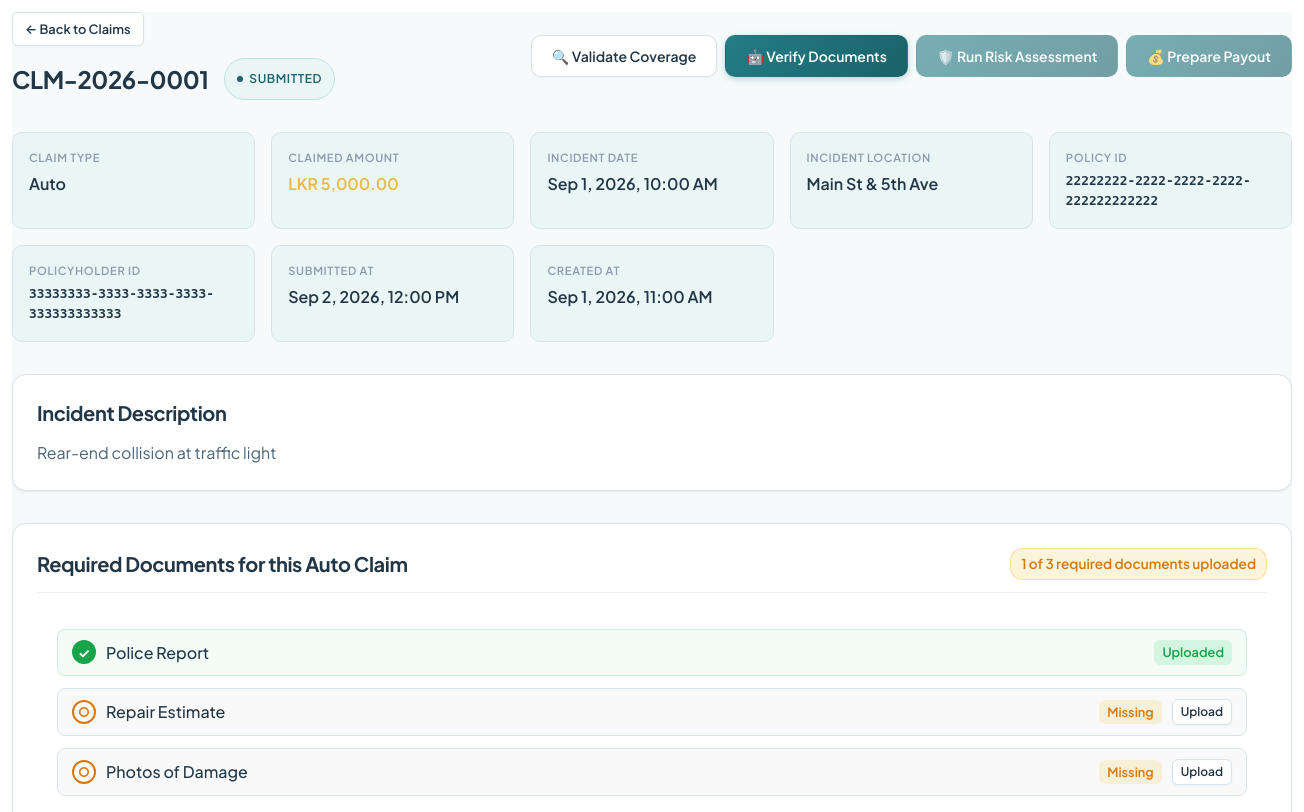
it: ClaimDetails Component Tests › 4. displays warnings section when warnings are returned
Check: the heading "CLM-2026-0001 Submitted" is shown, box 12,58 -> 335,100
Click the button "🤖 Verify Documents".
click(817, 56)  # box 725,35 -> 908,77
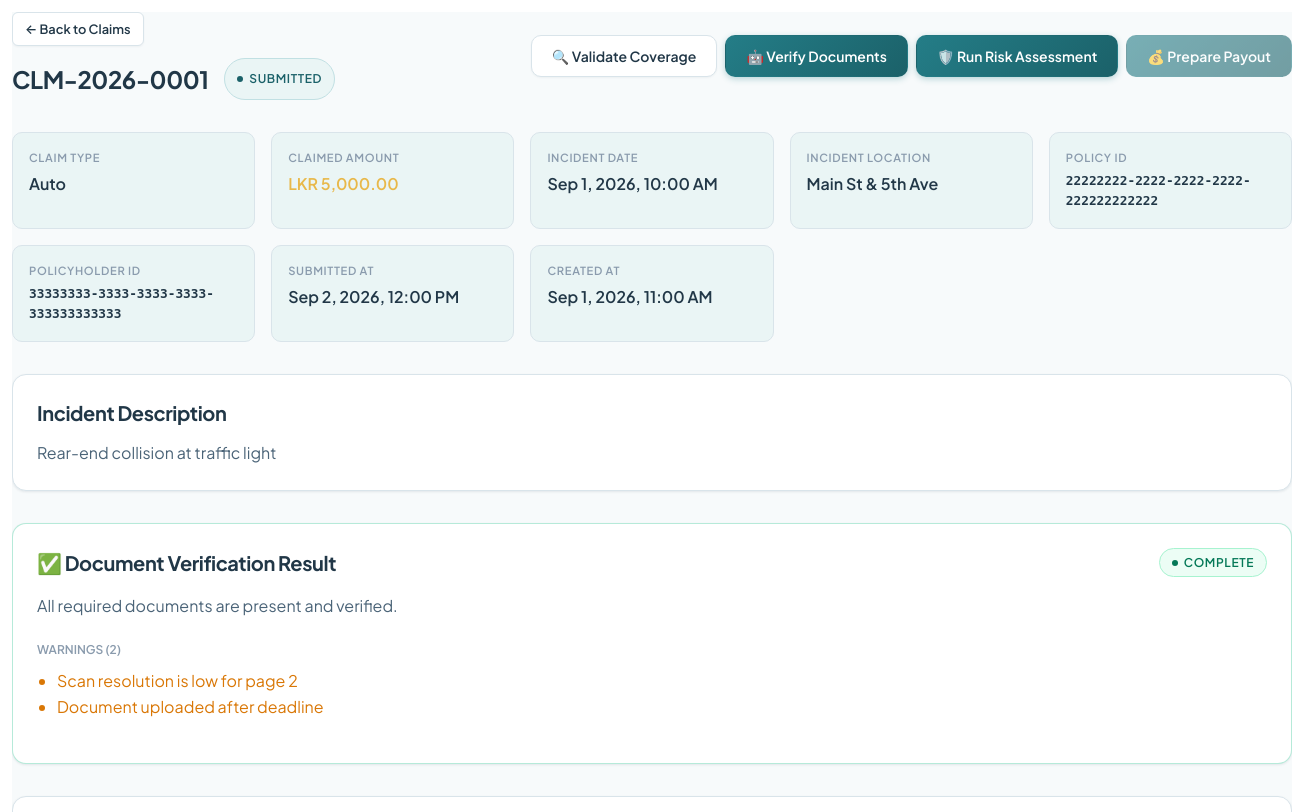
Check: the text "Warnings (2)" is shown, box 37,642 -> 121,657
Check: the list item "Scan resolution is low for page 2" is shown, box 57,670 -> 298,691
